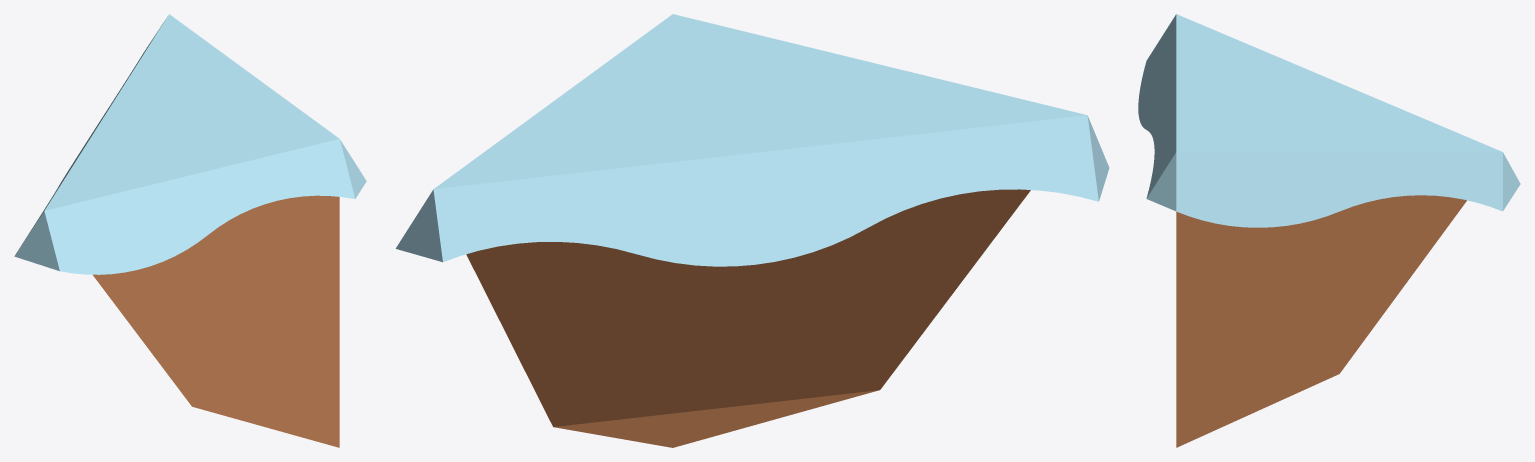
Rendered from blockSnowCliffCorner.dae.
3 views of the same model, side by side, from view 1: azimuth 30°, elevation 25°; view 2: azimuth 150°, elevation 25°; view 3: azimuth 270°, elevation 25° (orthographic). The views are drawn at different scales.
Visible parts, largest first — view 1: blockSnowCliffCorner; view 2: blockSnowCliffCorner; view 3: blockSnowCliffCorner.
Part boxes in pixels (x1,y1,x2,y2): blockSnowCliffCorner: (14, 14, 366, 447); blockSnowCliffCorner: (395, 14, 1109, 447); blockSnowCliffCorner: (1138, 14, 1520, 447).
Bounding box in the file's own units: 1.18 × 1 × 1.17.
